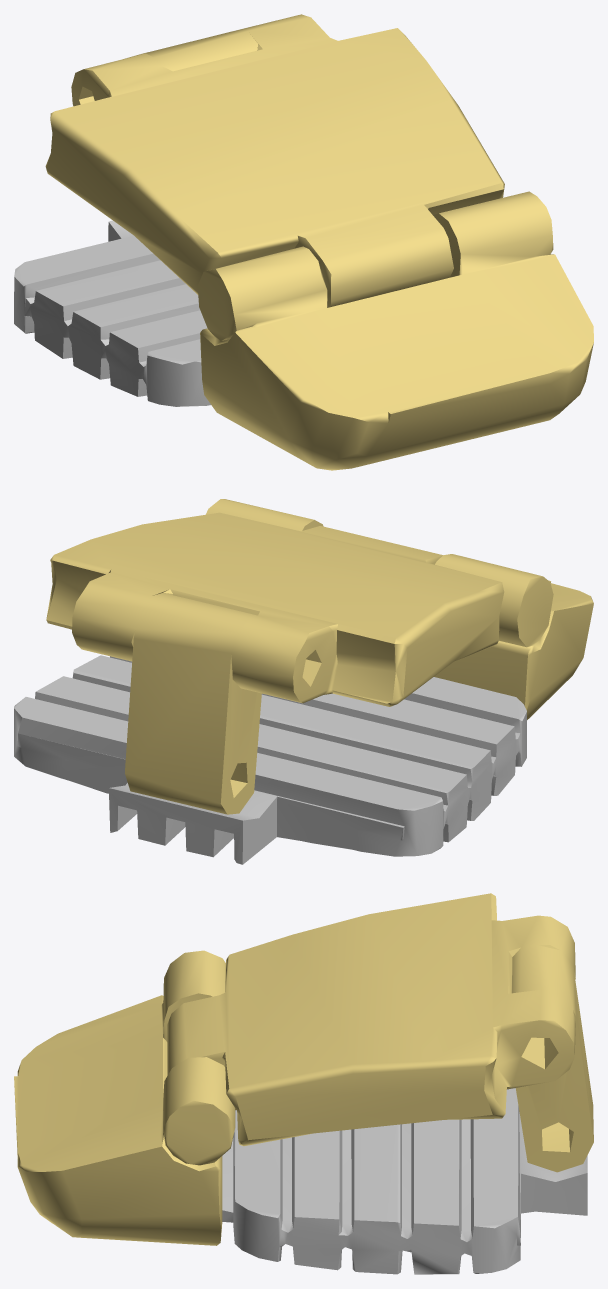
File: link_finger_tip.glb
3 renders of one model, top to bottom at view 1: azimuth 30°, elevation 25°; view 2: azimuth 150°, elevation 25°; view 3: azimuth 270°, elevation 25°, orthographic. The views are drawn at different scales.
Parts seen in each view (by area): view 1: link_finger_tip_simplified.3obj.001, link_finger_tip_simplified.3obj; view 2: link_finger_tip_simplified.3obj.001, link_finger_tip_simplified.3obj; view 3: link_finger_tip_simplified.3obj.001, link_finger_tip_simplified.3obj.
Boxes of the visible parts, x1,y1,x2,y2 form: link_finger_tip_simplified.3obj.001: (45, 14, 593, 470); link_finger_tip_simplified.3obj: (14, 220, 210, 406); link_finger_tip_simplified.3obj.001: (46, 499, 593, 814); link_finger_tip_simplified.3obj: (14, 655, 526, 864); link_finger_tip_simplified.3obj.001: (14, 893, 593, 1245); link_finger_tip_simplified.3obj: (222, 1088, 587, 1274).
Bounding box in the file's own units: 0.039 × 0.0206 × 0.0481.
